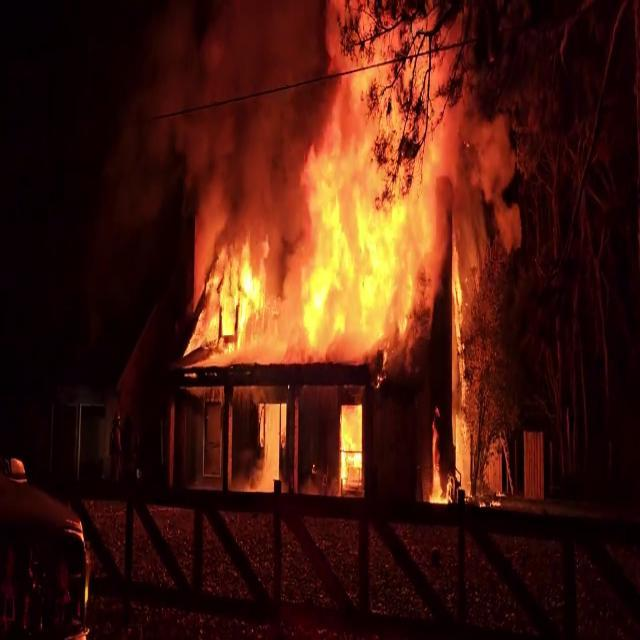Fire: (195, 1, 493, 374)
